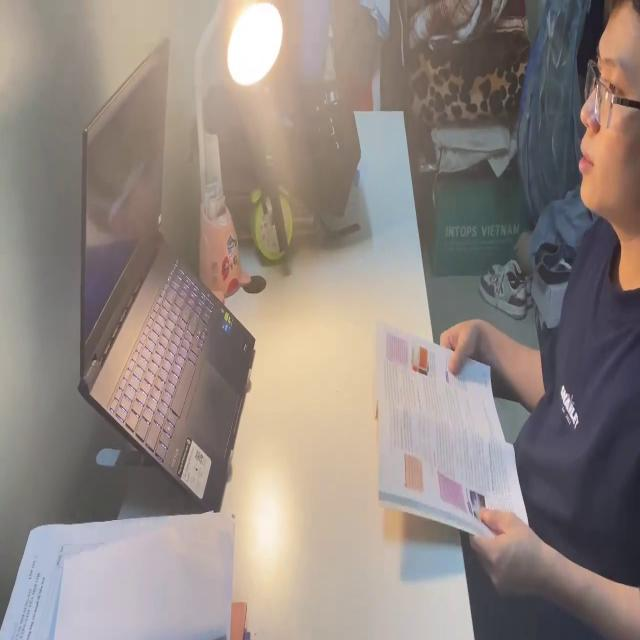book: (368, 316, 530, 559), (1, 504, 255, 640)
laptop: (72, 34, 255, 513)
student: (434, 0, 640, 640)
